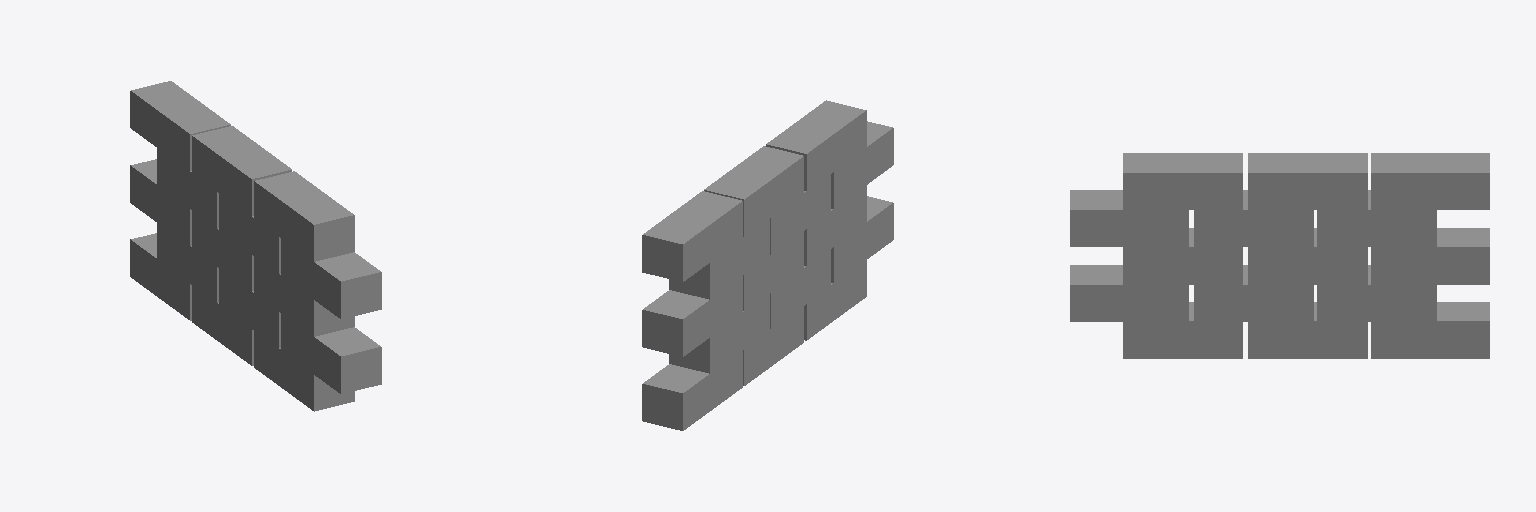
File: Brickwall.obj
3 views of the same model, side by side, from view 1: azimuth 30°, elevation 25°; view 2: azimuth 150°, elevation 25°; view 3: azimuth 270°, elevation 25° (orthographic).
Parts seen in each view (by area): view 1: Cube.001_Cube.000; view 2: Cube.001_Cube.000; view 3: Cube.001_Cube.000.
Part boxes in pixels (left/top/right/bottom): Cube.001_Cube.000: left=130, top=81, right=381, bottom=411; Cube.001_Cube.000: left=642, top=100, right=893, bottom=430; Cube.001_Cube.000: left=1070, top=153, right=1489, bottom=358.
Size of the model in its own units: 0.2493 by 1.1 by 2.24.